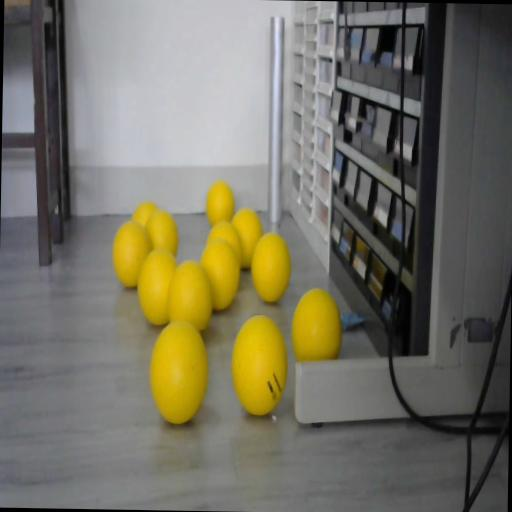FUEL: (148, 318, 210, 423), (230, 312, 289, 416), (291, 288, 343, 366), (166, 260, 214, 334), (198, 237, 242, 312), (136, 248, 178, 326), (250, 231, 292, 303), (112, 220, 151, 288), (231, 208, 264, 269), (144, 208, 180, 258), (205, 220, 243, 267), (206, 180, 236, 226), (132, 202, 160, 230)
